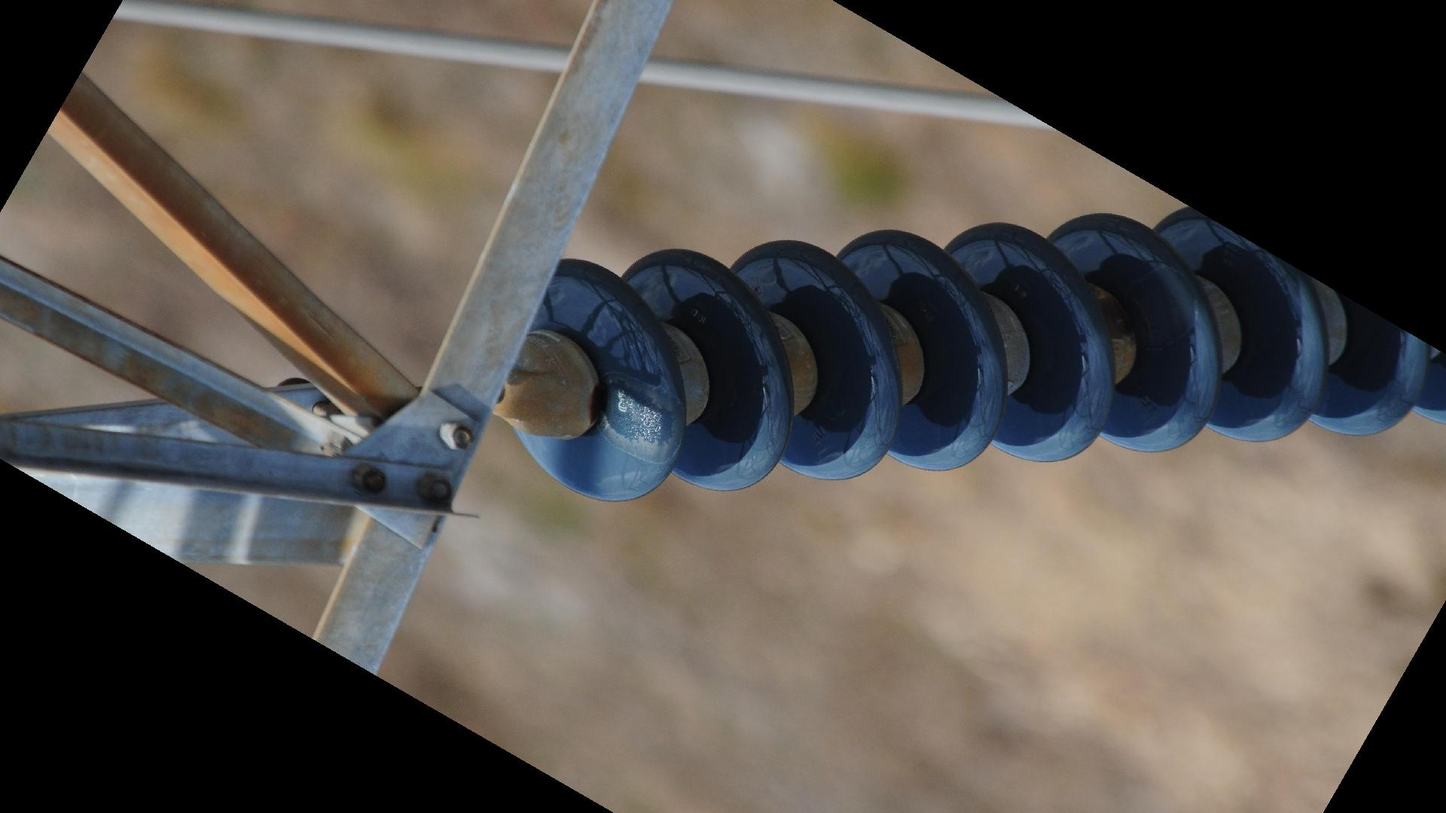insulator: (490, 196, 1446, 512)
insulator_flashover: (596, 368, 690, 466)
